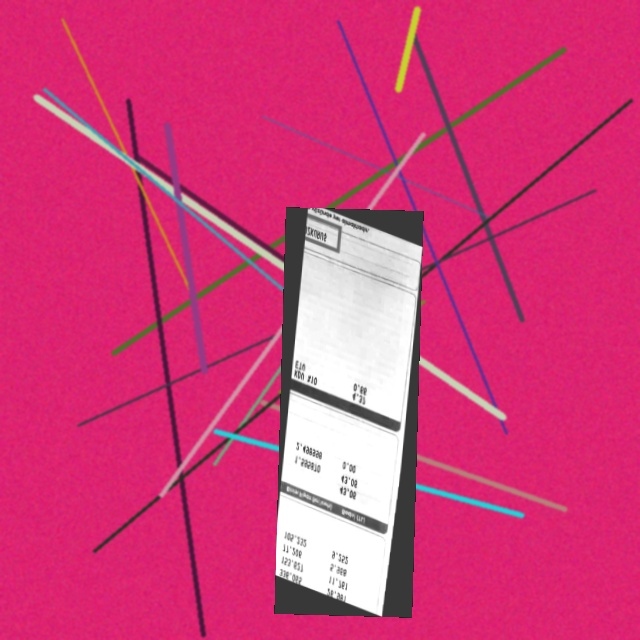electricity-bill: (273, 206, 423, 618)
